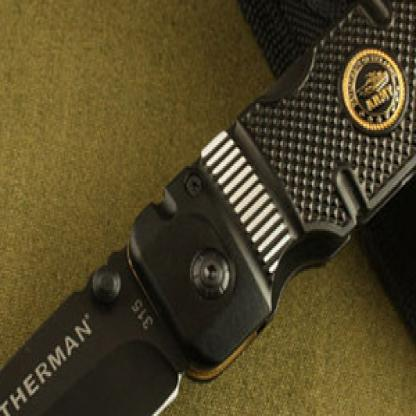knife: (0, 233, 193, 414)
